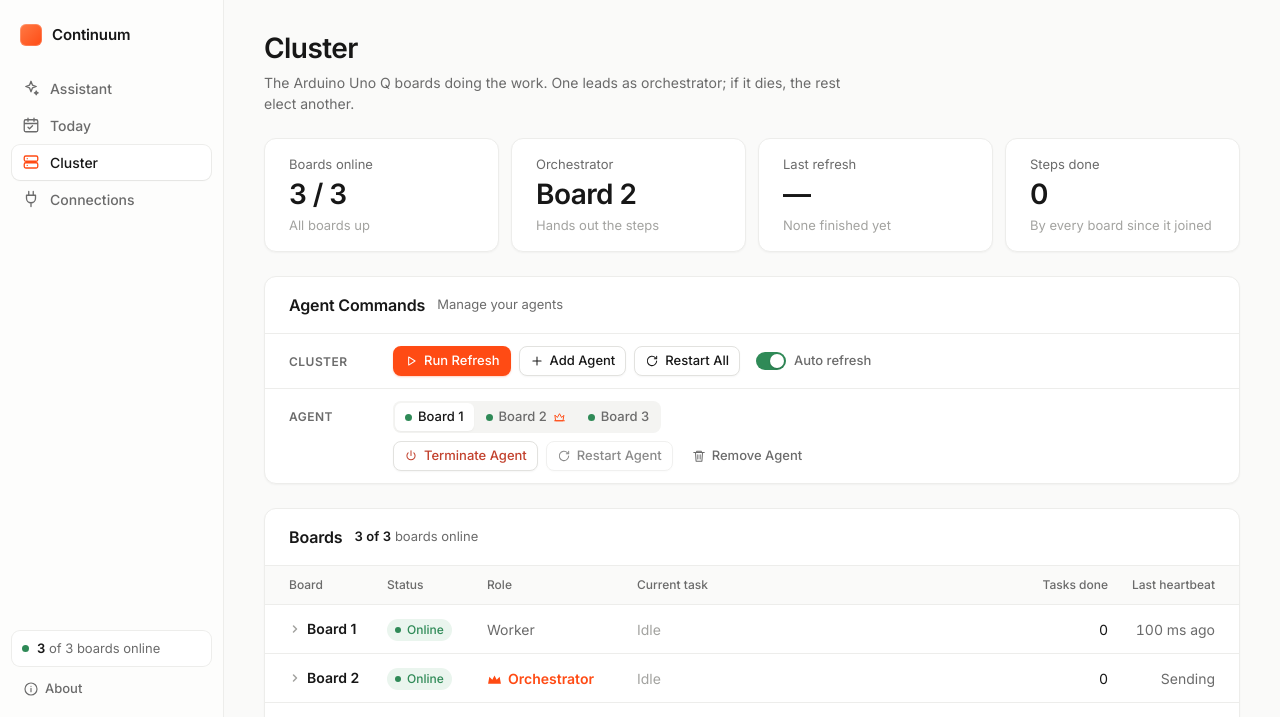
Scenario: Agent Commands › drops a pending confirm when its board disappears, instead of terminating another board
What coordinates should you click on to do the following:
click the button "Board 3" below "Auto refresh"
I would click on:
 (618, 417)
Its box is 578,403 -> 659,431.
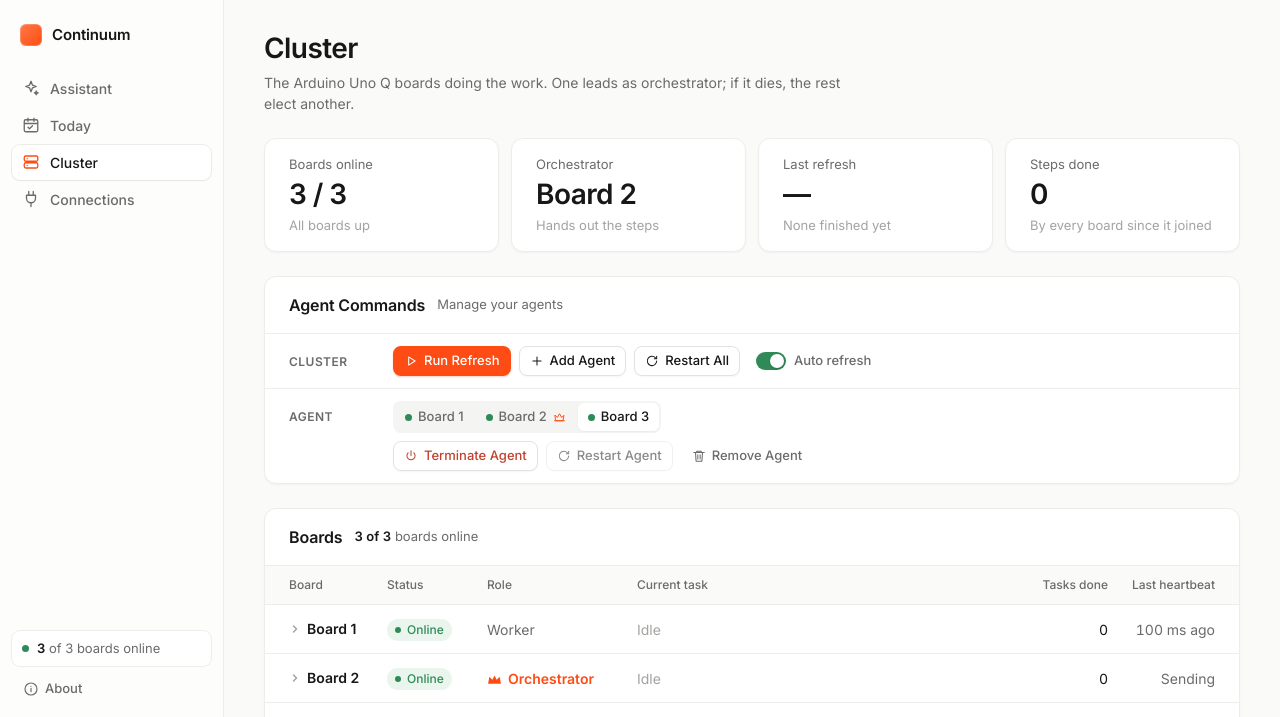
What coordinates should you click on to do the following:
click the button "Terminate Agent"
I would click on:
 (465, 456)
Its box is 393,441 -> 538,471.
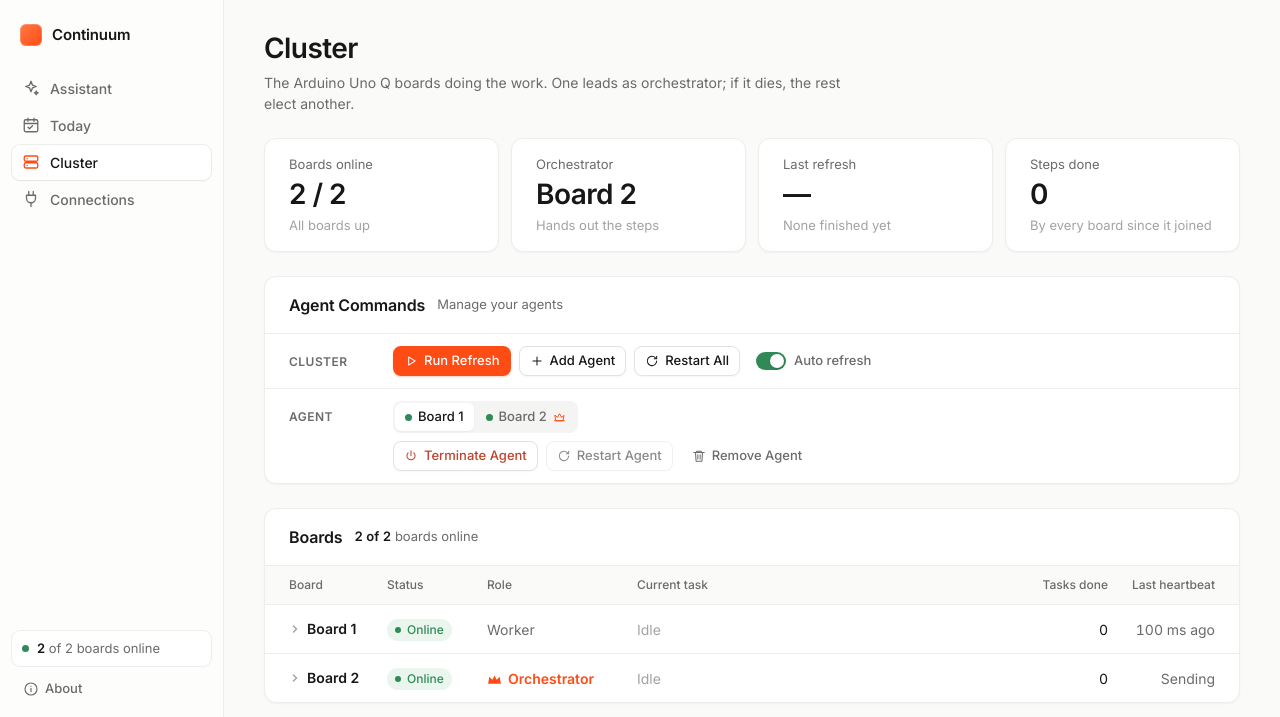
Expected: the button "Board 3" is gone
